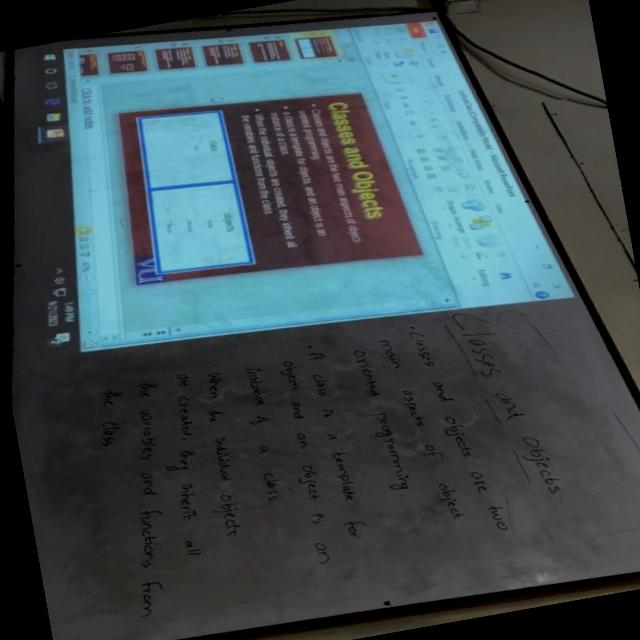Slide: (31, 22, 571, 354)
White-board: (9, 17, 640, 640)
